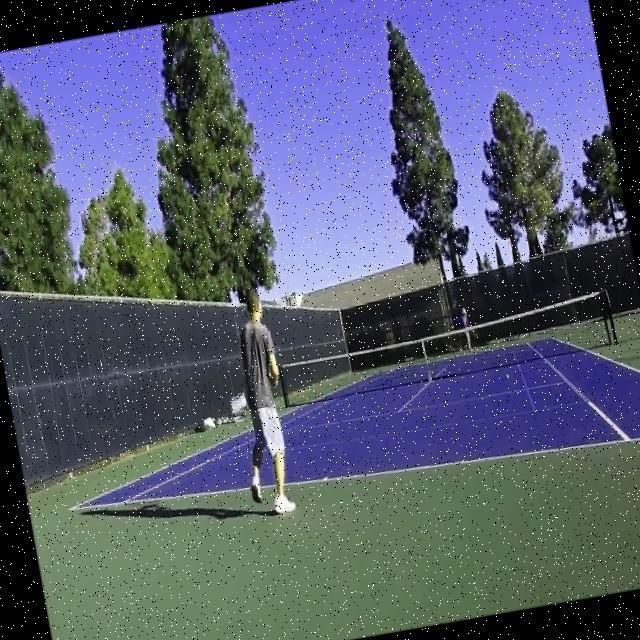court: (52, 321, 640, 541)
net: (274, 284, 618, 408)
player: (215, 282, 304, 518)
